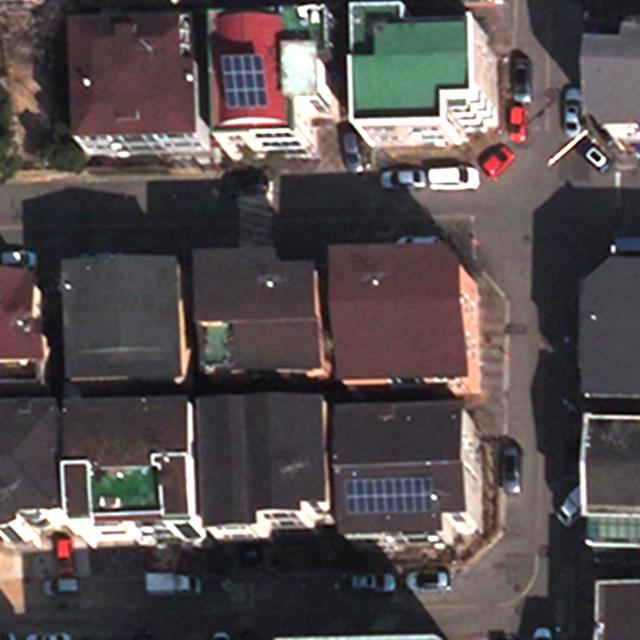panel: (342, 476, 437, 516), (217, 52, 270, 112)
